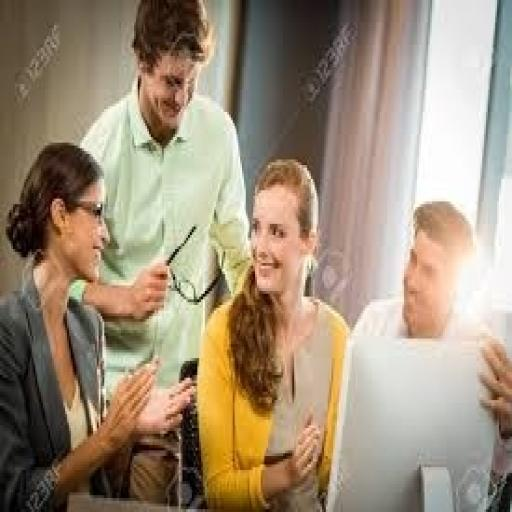clapping: (72, 0, 251, 506), (0, 137, 194, 509), (196, 154, 350, 509), (348, 196, 510, 509)
